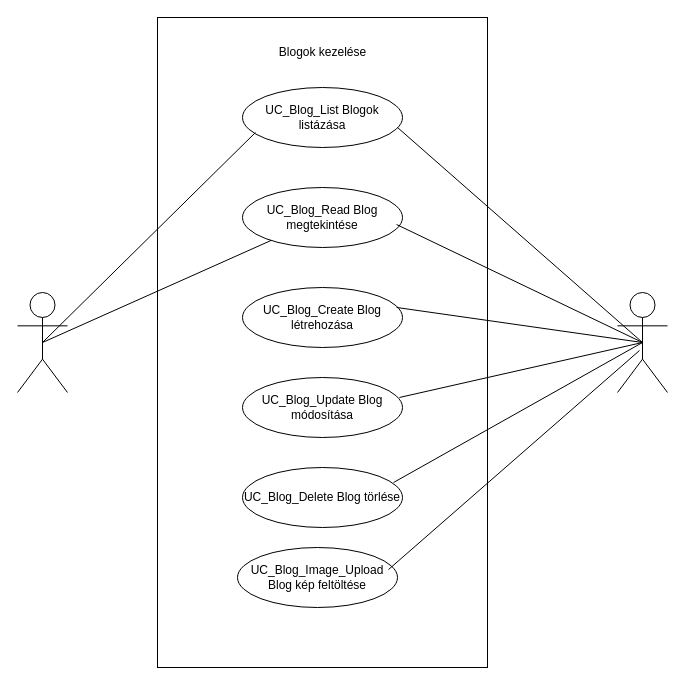
This 685x685 diagram has some shape labels left out. The shapes that lost their labels are listed below. From the top down, each one's box as (x1, y1, x2, y2) in pixels, then its label:
(16, 292, 68, 392): Kliens
(616, 292, 668, 392): Edző
